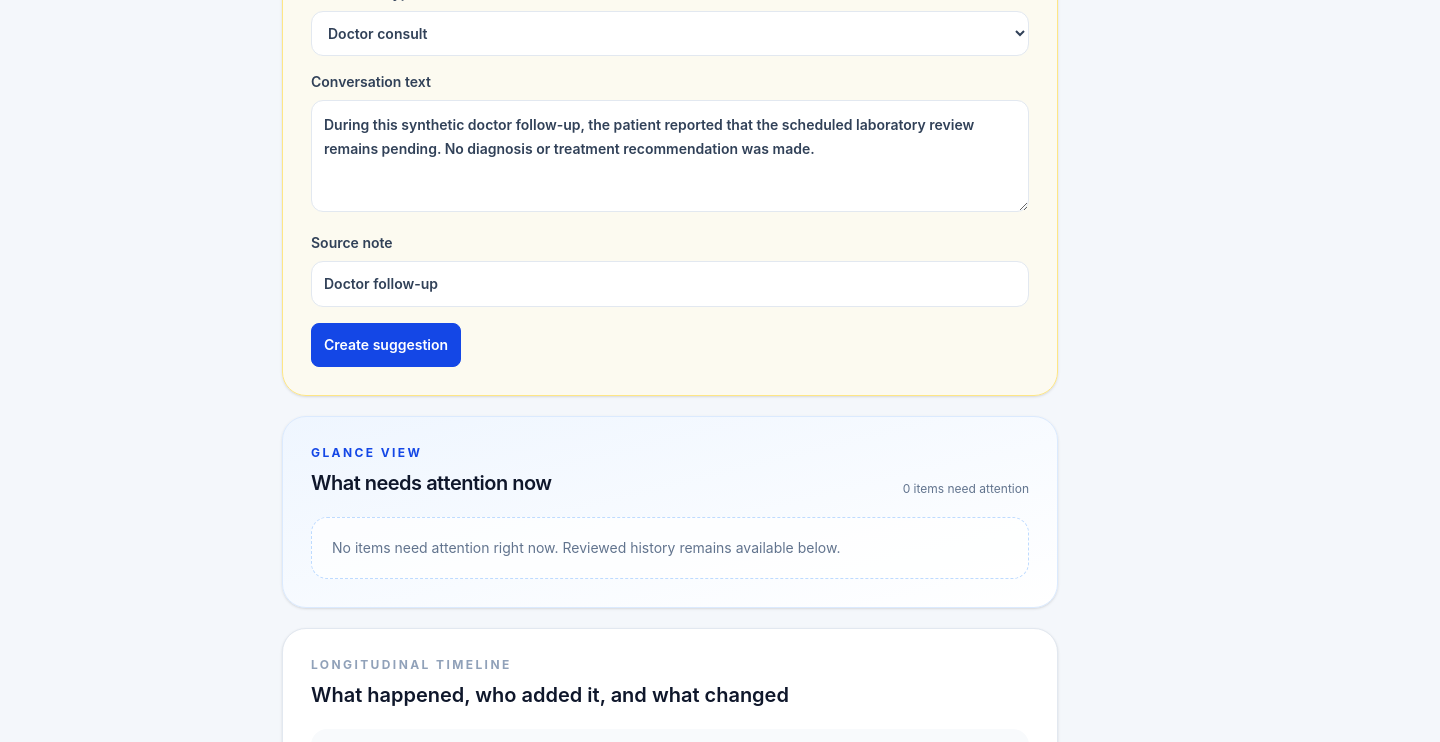
Scenario: Gate B shared care note › shows the internal AI-assisted panel and a safe completed job
(page scrolled)
Click the button "Create suggestion" at (386, 344), box 311,322 -> 461,366
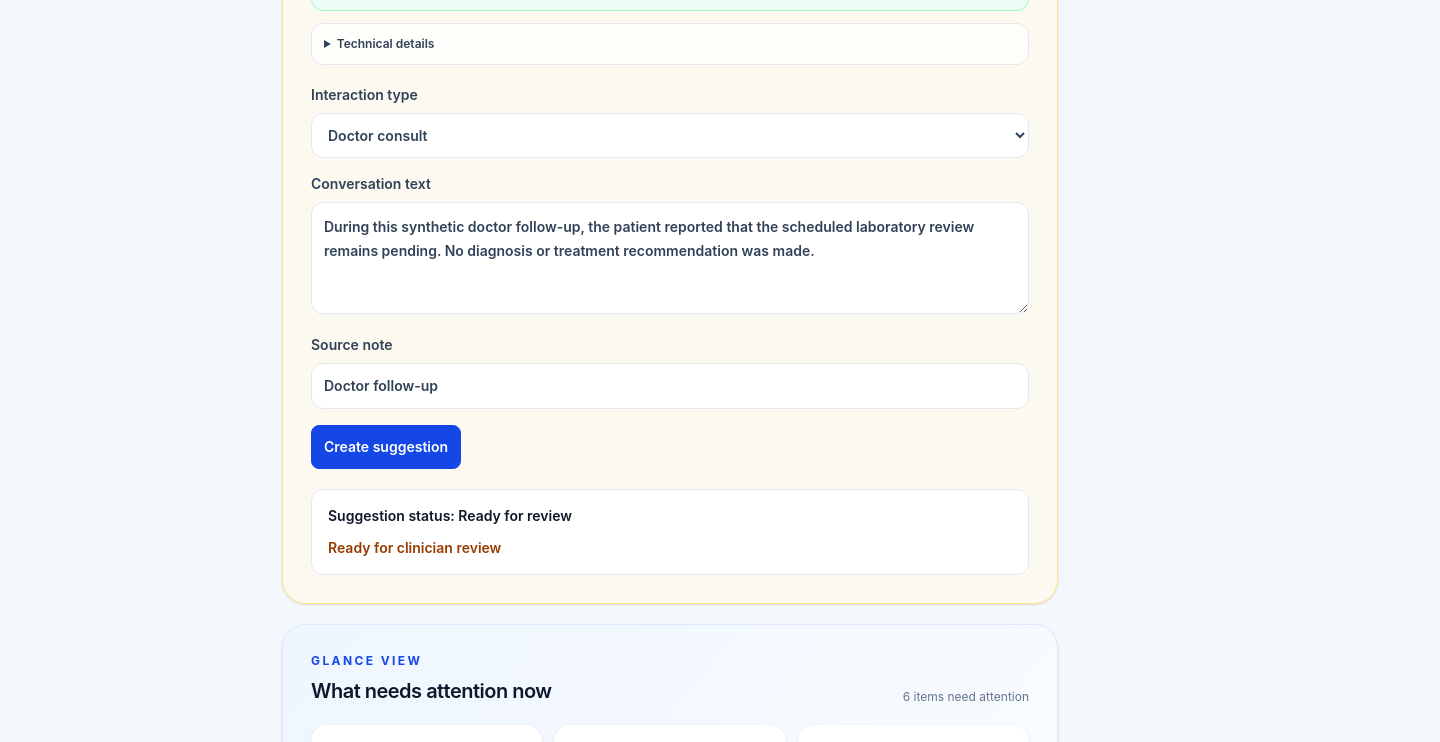
Expected: the element with test id "ai-job-result" does not show "deepseek-v4-flash", 311,488 -> 1029,574
Result: the element with test id "ai-job-result" shows "Ready for review" at 458,506 -> 572,524
